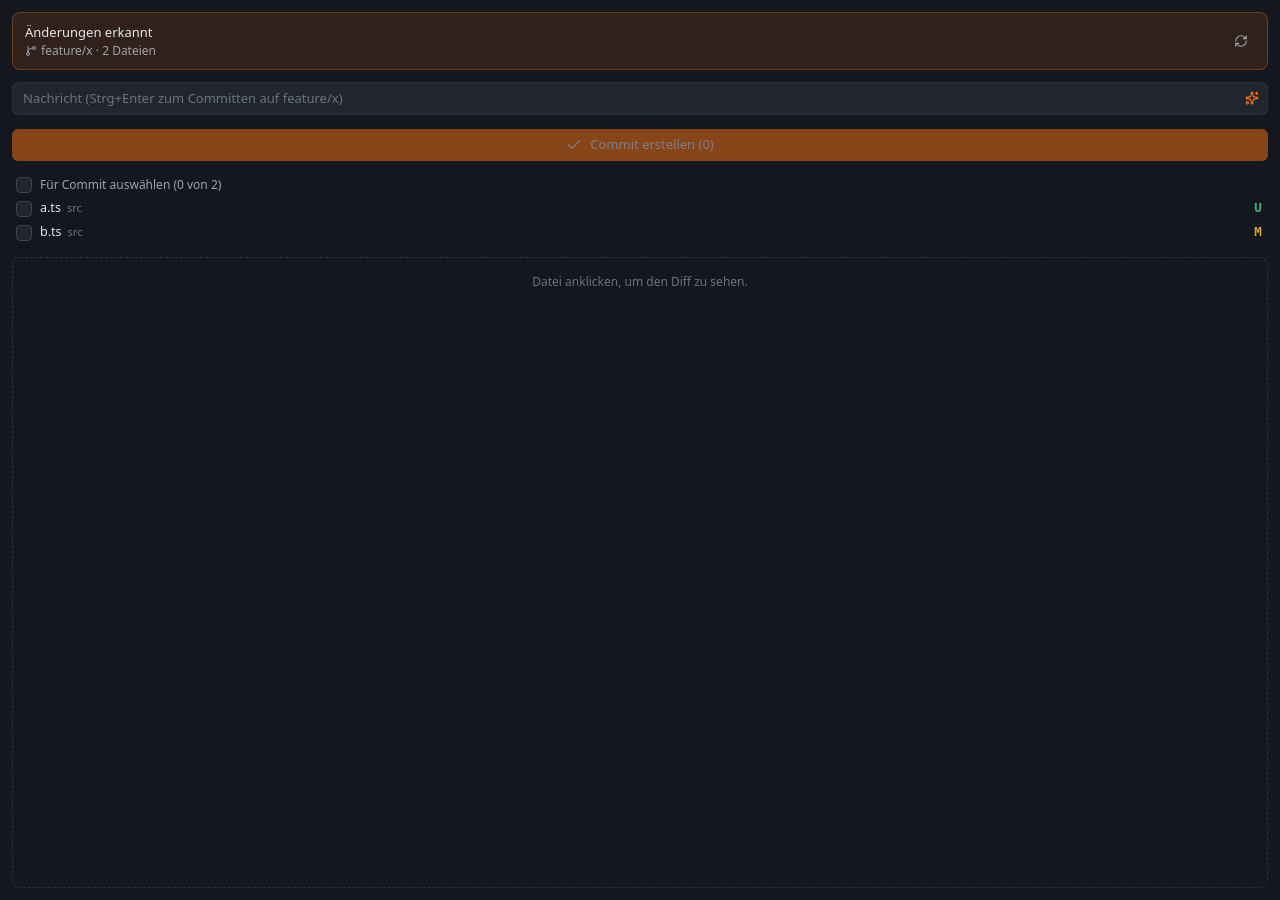
Test: GitPanel commit flow › fills the message from the AI suggestion for the selected files
Click the checkbox named "src/a.ts auswählen" at (24,208), box [16, 200, 32, 216]
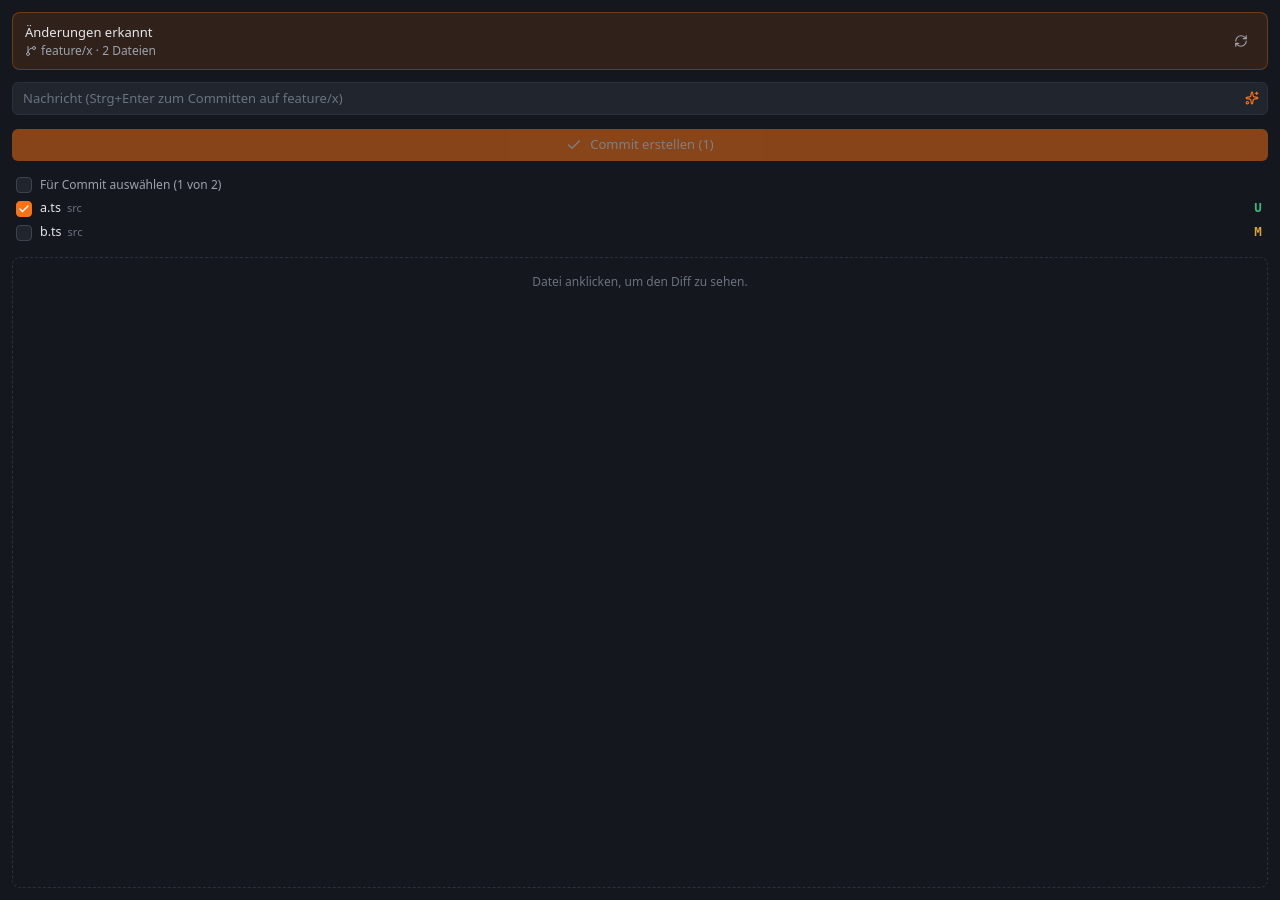
Click the button named "Commit-Nachricht mit Claude erzeugen" at (1252,98), box [1238, 84, 1266, 112]
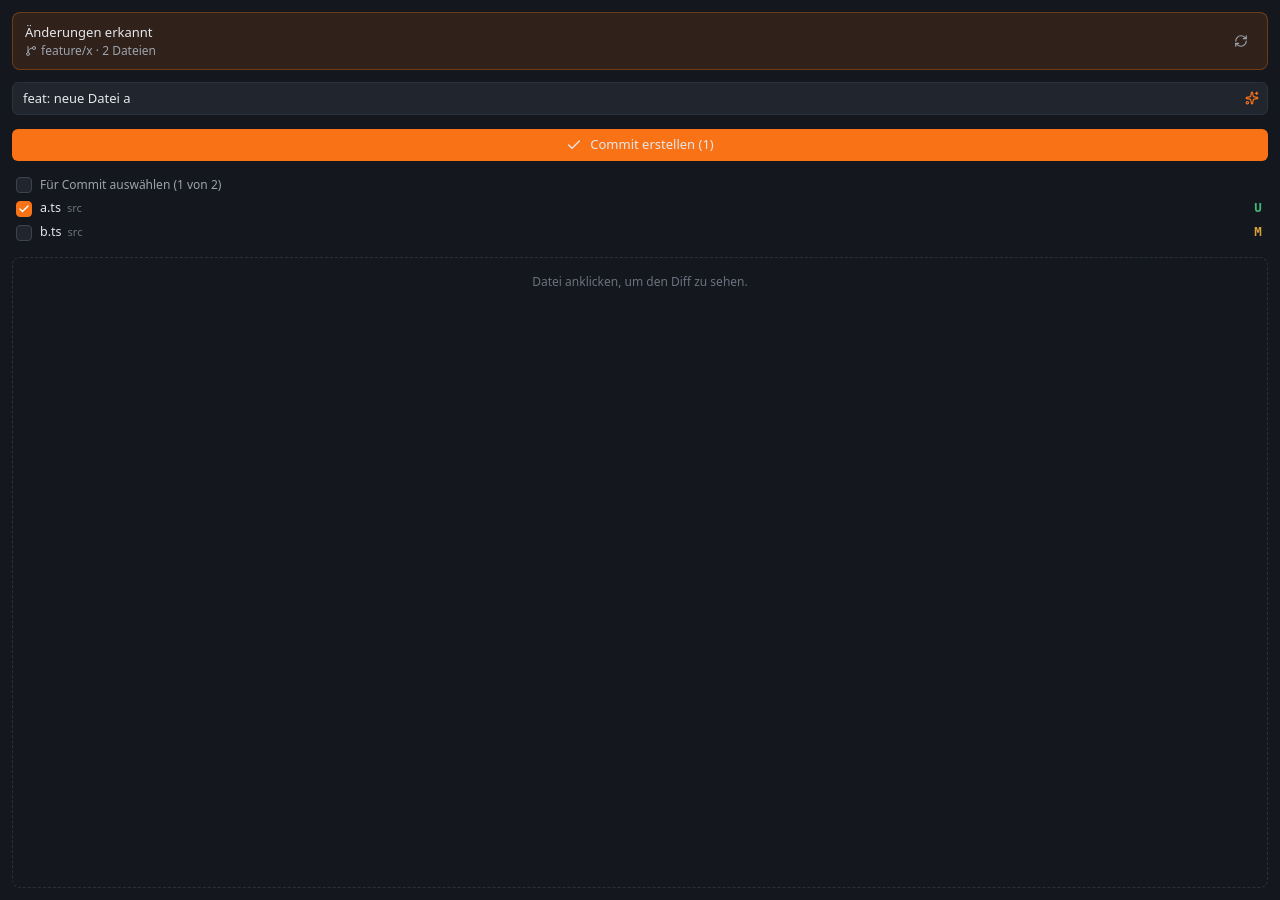
Check: the text box named "Commit-Nachricht" holds "feat: neue Datei a", box [12, 82, 1268, 115]
